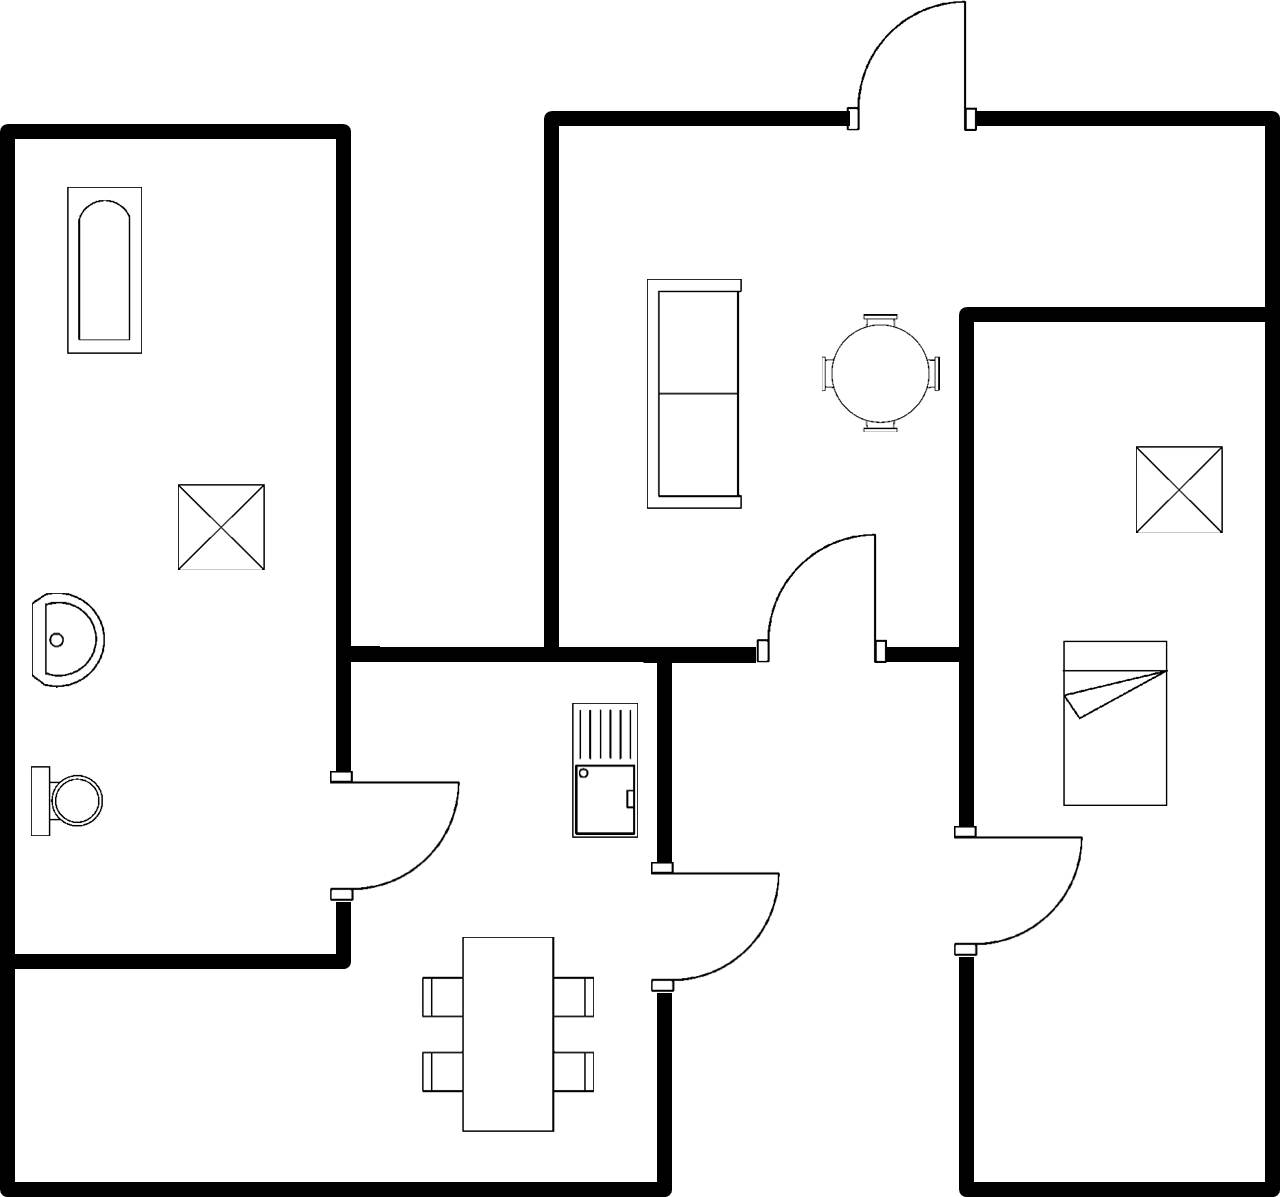bed: (1054, 632, 1177, 815)
coffee_table: (1126, 439, 1231, 546), (171, 475, 275, 579)
dining_table: (415, 927, 595, 1140)
large_sink: (24, 758, 108, 846)
large_sofa: (638, 270, 752, 521)
round_table: (810, 303, 948, 442)
sink: (562, 695, 641, 849)
small_sink: (24, 588, 109, 697)
tub: (59, 179, 149, 361)
